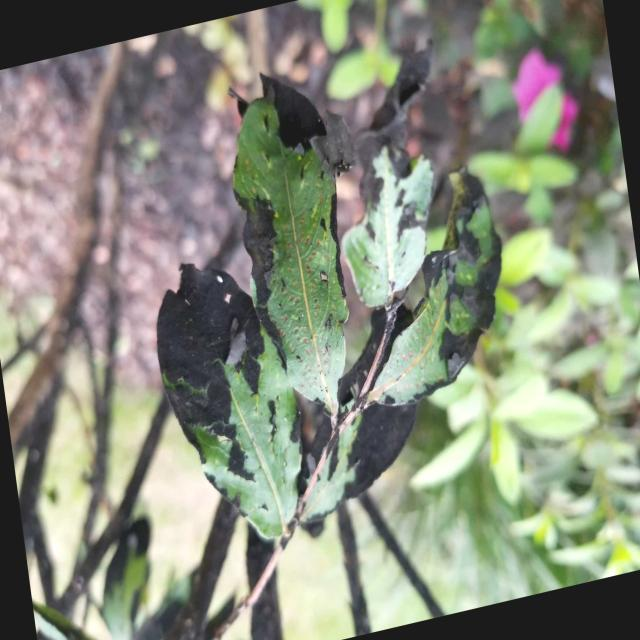Sooty Mold: (155, 51, 503, 544)
